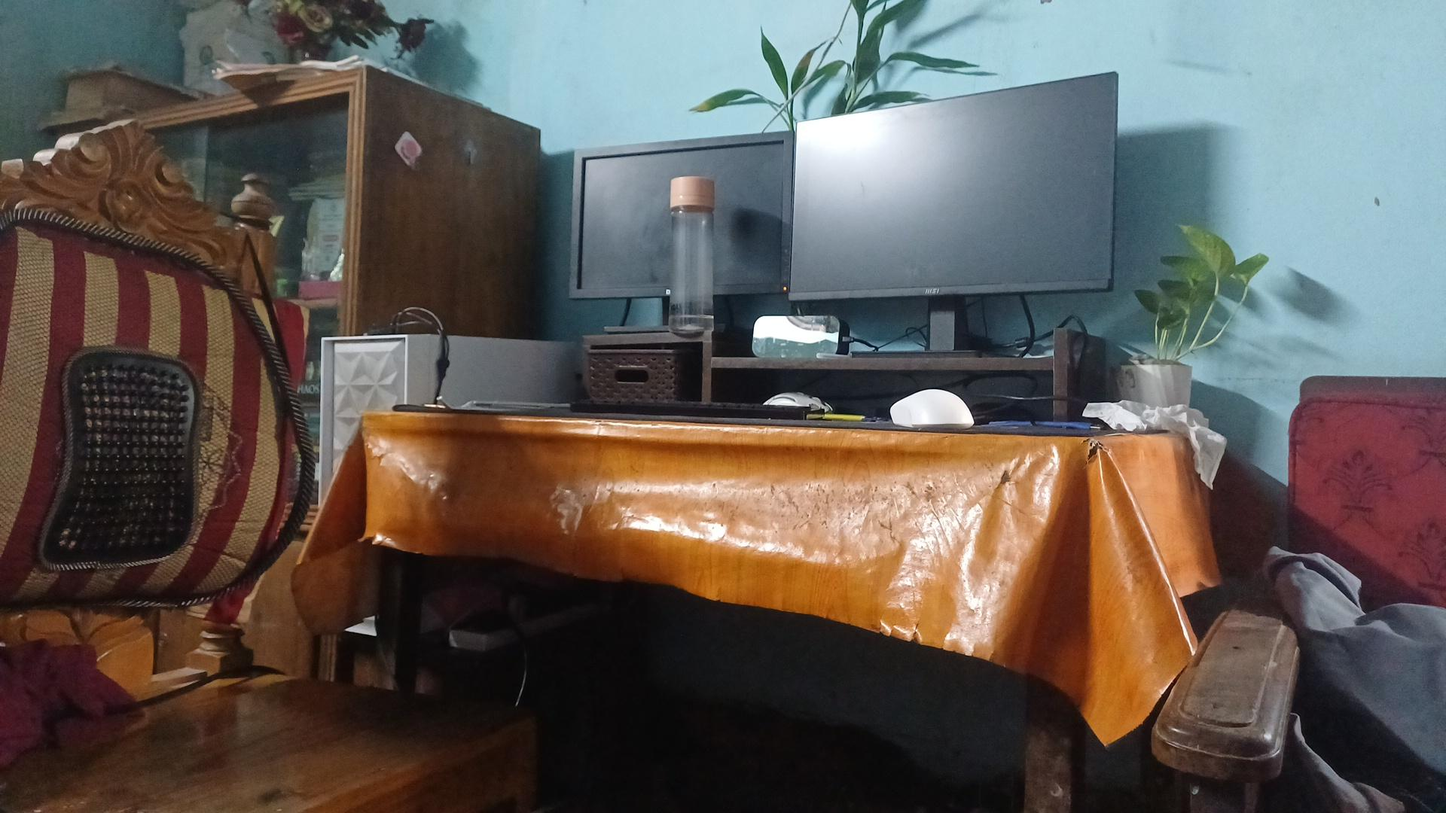Bottle: (660, 170, 723, 328)
Chair: (10, 102, 407, 782)
Clock: (739, 304, 847, 364)
Monitor: (783, 107, 1132, 325), (561, 136, 788, 299)
Mouse: (891, 388, 996, 454)
Plant: (1137, 220, 1261, 435)
